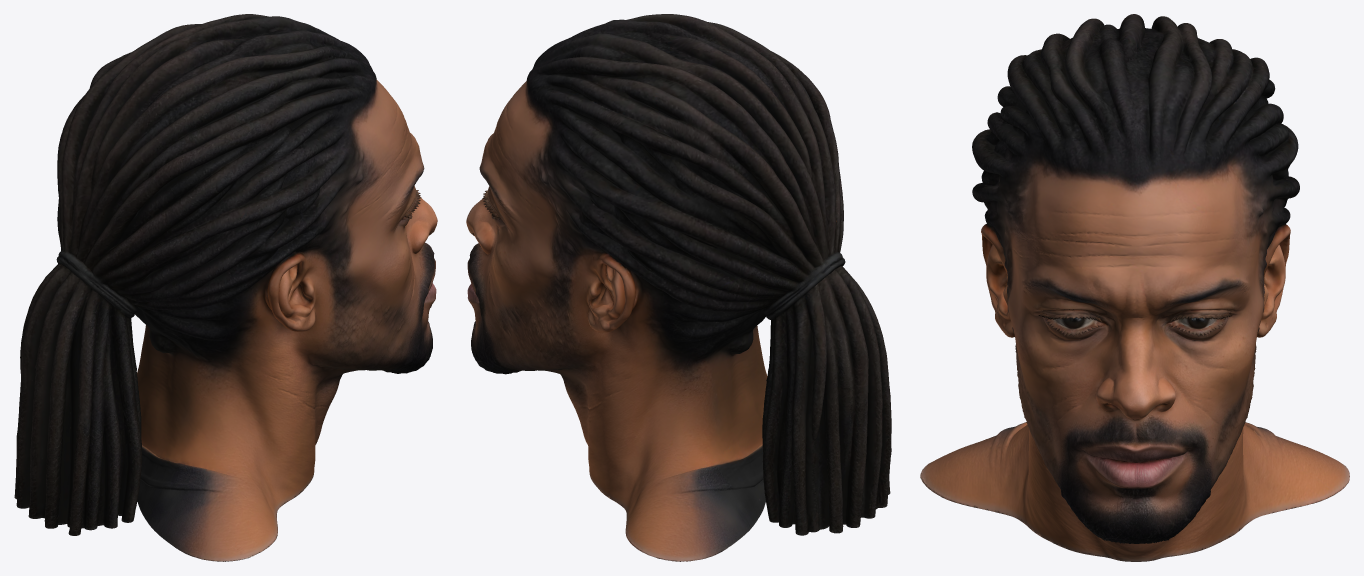
File: sol_scan_head_raw.glb
The picture shows the model from 3 angles, left to right: view 1: azimuth 30°, elevation 25°; view 2: azimuth 150°, elevation 25°; view 3: azimuth 270°, elevation 25°; orthographic projection. The views are drawn at different scales.
Visible parts, largest first — view 1: tripo_node_de41ffff-9f50-4efd-920b-4821bf959491; view 2: tripo_node_de41ffff-9f50-4efd-920b-4821bf959491; view 3: tripo_node_de41ffff-9f50-4efd-920b-4821bf959491.
Part boxes in pixels (<box>): tripo_node_de41ffff-9f50-4efd-920b-4821bf959491: <box>14,14,437,561</box>; tripo_node_de41ffff-9f50-4efd-920b-4821bf959491: <box>466,14,891,561</box>; tripo_node_de41ffff-9f50-4efd-920b-4821bf959491: <box>920,14,1349,561</box>.
Bounding box in the file's own units: 0.9629 × 0.9817 × 0.7851.
1 material, 1 textured.
